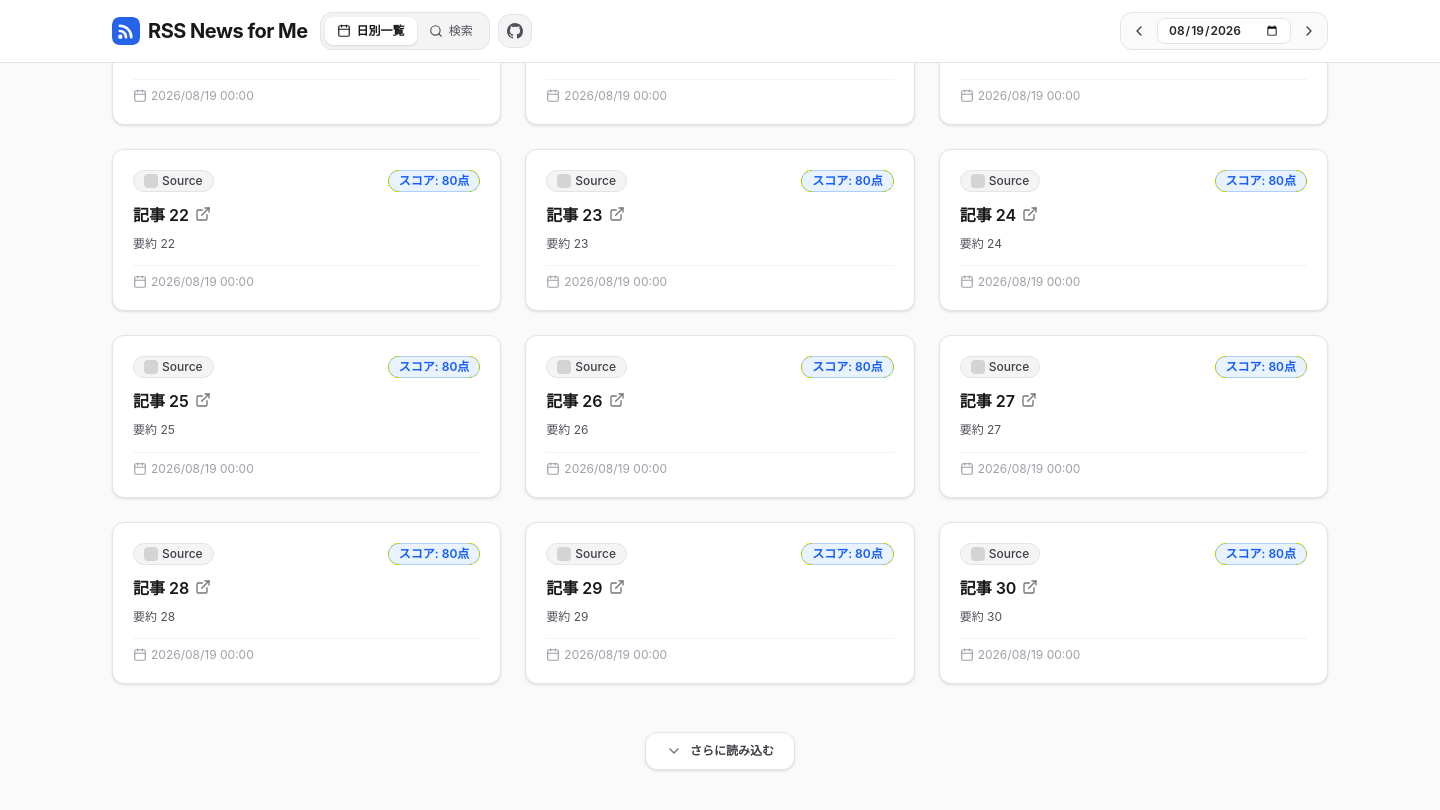
Test: フロントエンド App コンポーネントのテスト › さらに読み込むボタンをクリックすると次ページの記事が取得されてリストに追加されること
(page scrolled)
Note: 「さらに読み込む」ボタン
Click the button "さらに読み込む". click: (720, 751)
box: [645, 732, 795, 770]
(page scrolled)
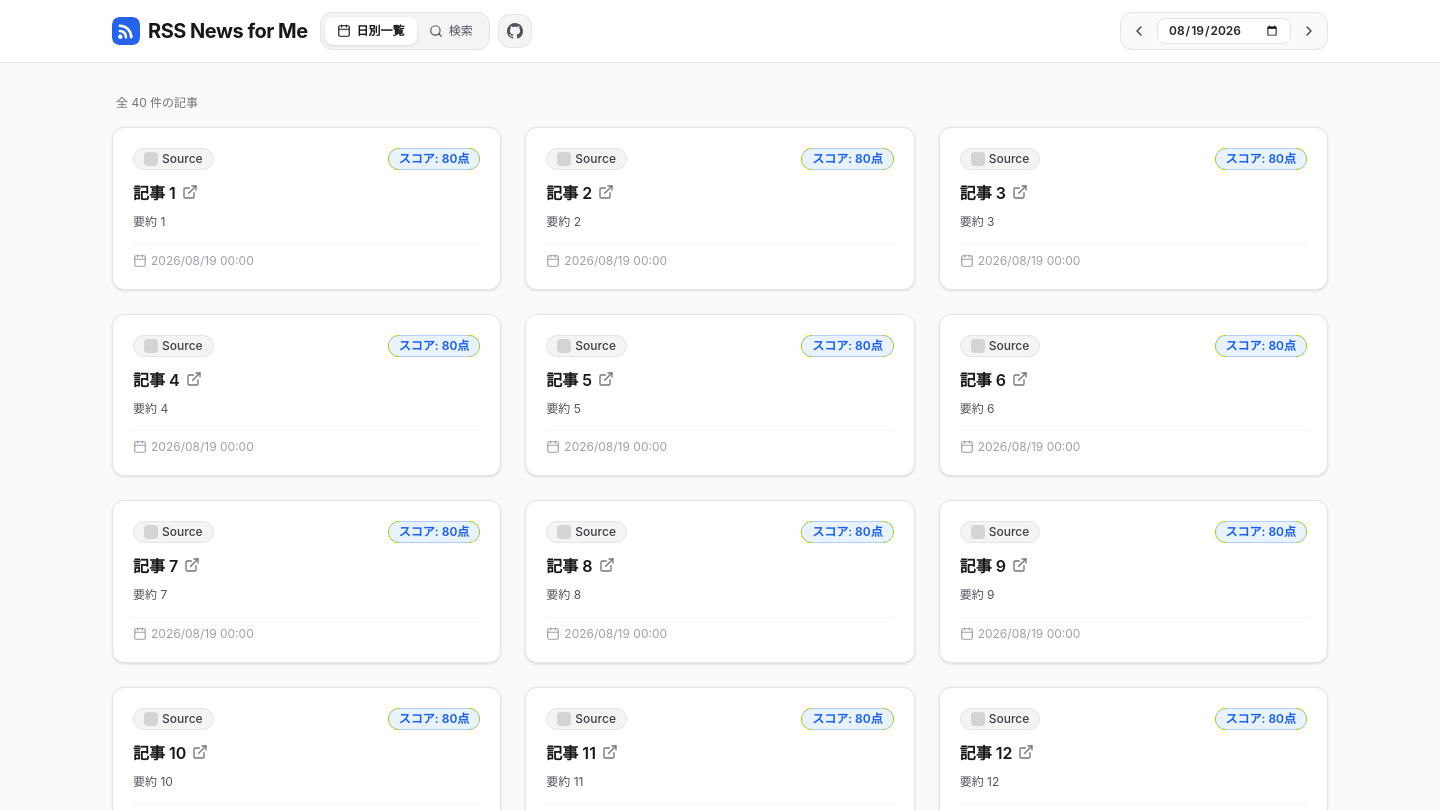
Expected: the text "記事 1" is shown, [133, 182, 176, 204]
